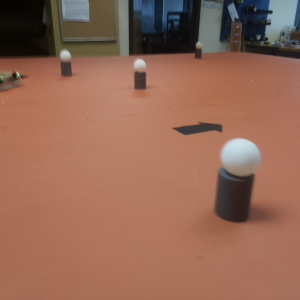obstacle: (214, 138, 261, 222), (132, 58, 148, 90), (59, 50, 72, 76), (194, 42, 204, 59)
side: (1, 72, 23, 92)
